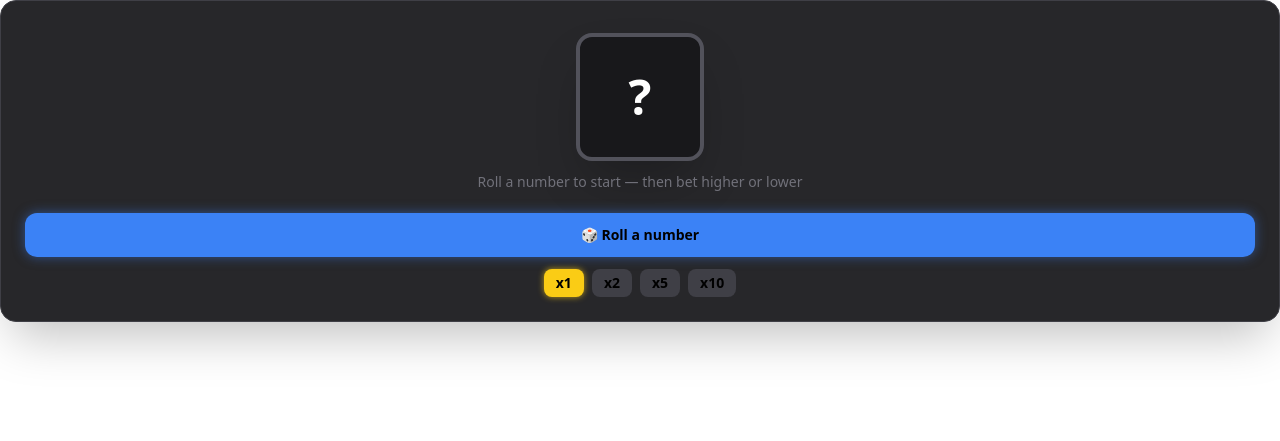
Test case: HiLo guessing › disables impossible sides: lower than 1 has no winning rolls
The width and height of the screenshot is (1280, 441).
Click the button "🎲 Roll a number". click: (640, 235)
box: [25, 213, 1255, 257]
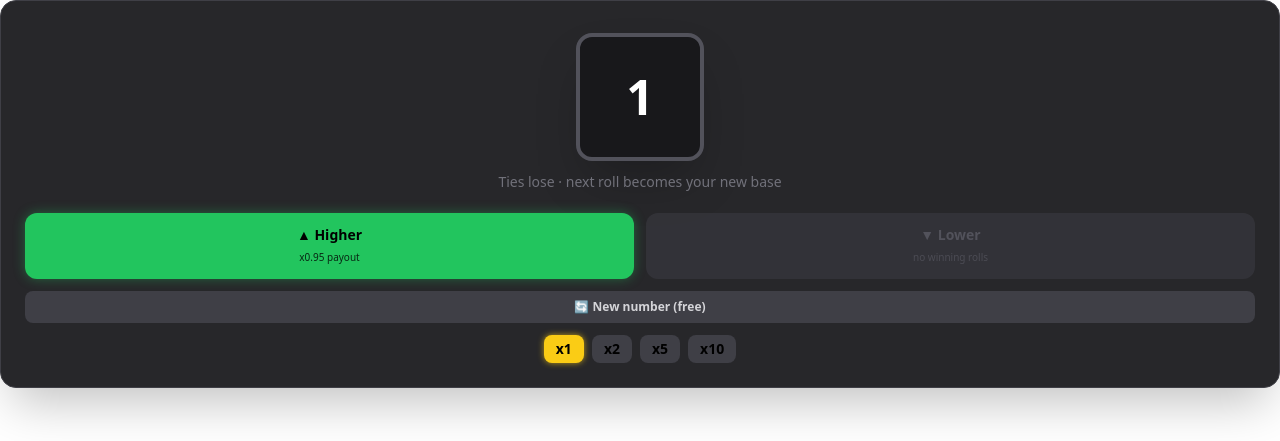
Now the button "▼ Lower no winning rolls" is disabled, box [646, 213, 1255, 279]
